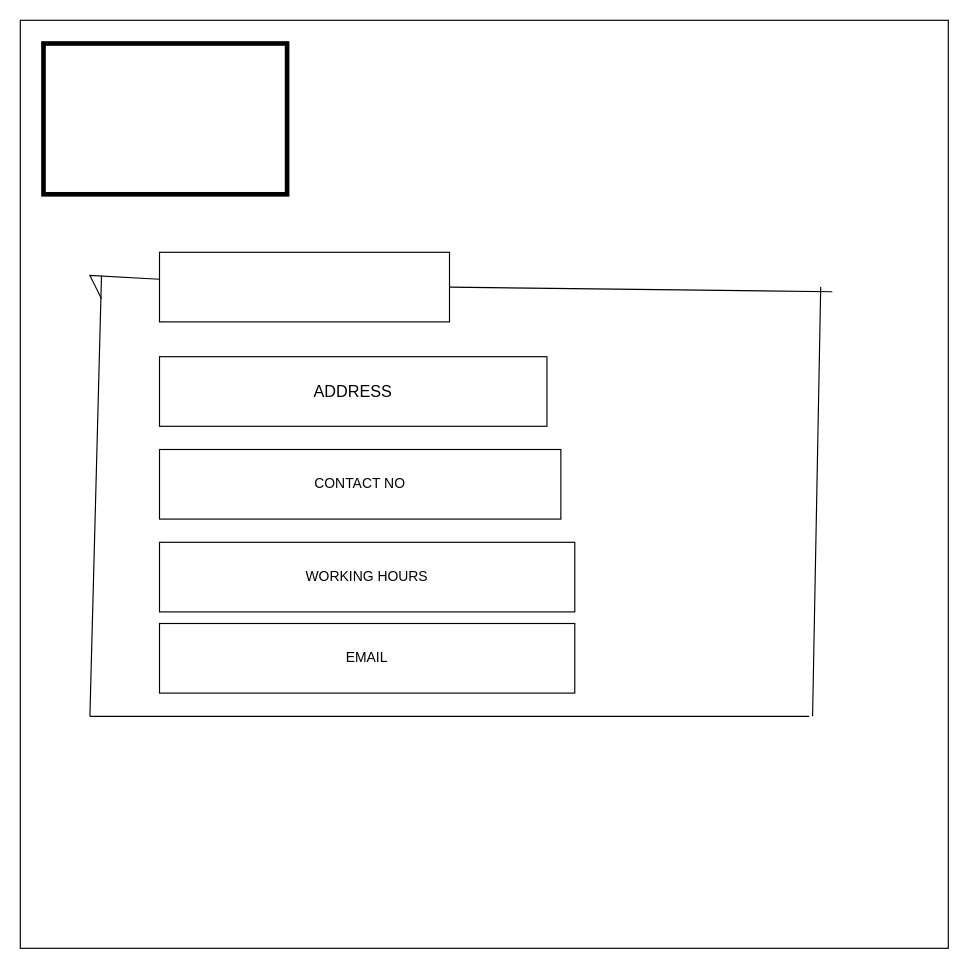
This 969x969 diagram has some shape labels left out. The shapes that lost their labels are listed below. From the top down, each one's centre as x and y in pixels, then its label:
At pixel 165 118: "CONTACT US".
At pixel 303 286: "Contact Details".
